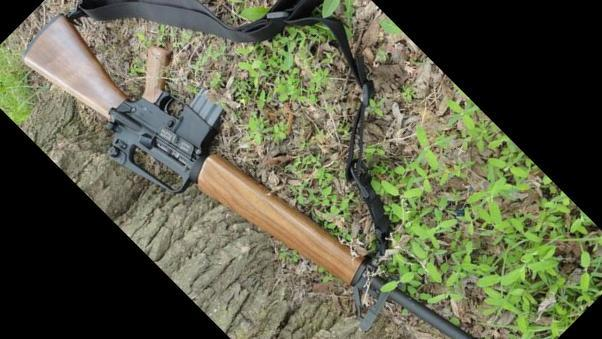larga: (22, 13, 477, 339)
